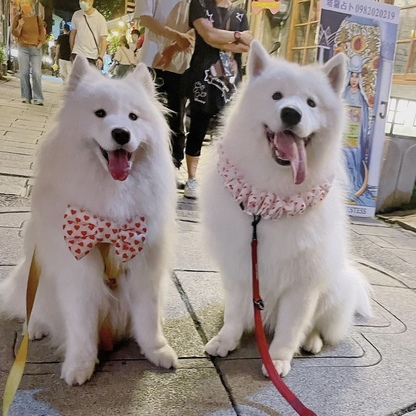samoyed: (192, 33, 380, 376), (1, 47, 188, 388)
